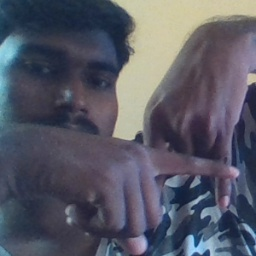H: (117, 96, 244, 227)
